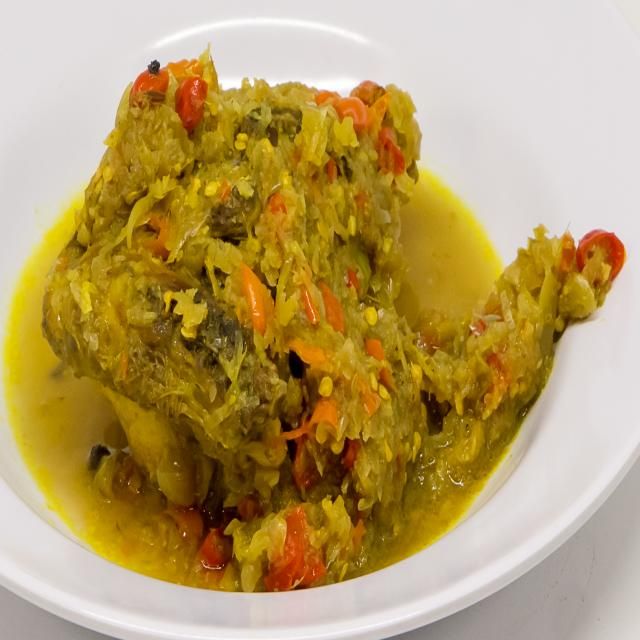Ayam-Betutu: (39, 36, 628, 590)
